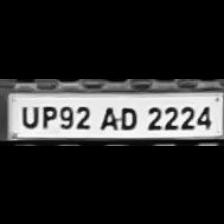2: (142, 102, 162, 130), (72, 101, 92, 128), (160, 101, 178, 128), (176, 101, 194, 128)
4: (193, 101, 213, 128)
9: (57, 101, 74, 128)
A: (95, 102, 117, 130)
D: (119, 100, 139, 130)
P: (38, 102, 56, 128)
U: (17, 100, 39, 127)
